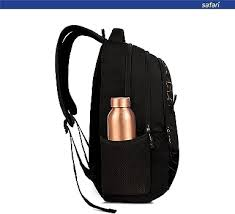backpack: (54, 24, 179, 213)
